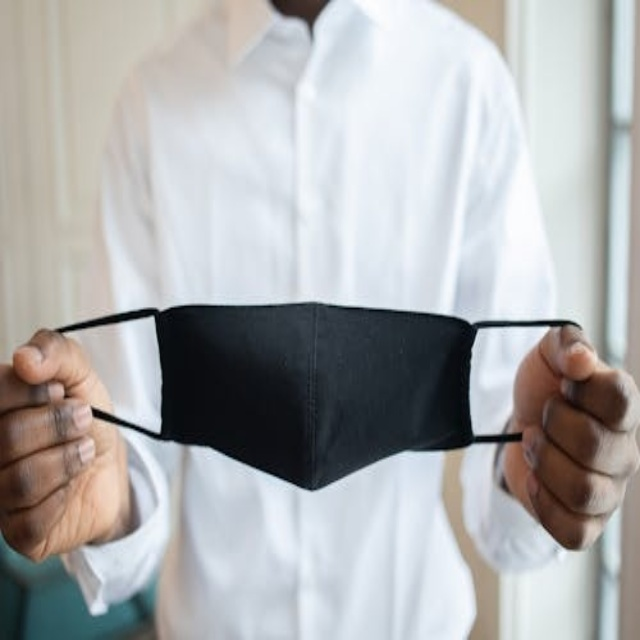Sin_guantes: (494, 320, 639, 553), (1, 328, 130, 566)
